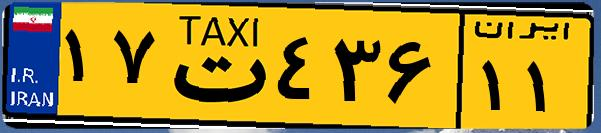1: (57, 26, 110, 100), (475, 38, 525, 113), (525, 38, 570, 115)
3: (330, 28, 385, 110)
4: (270, 28, 330, 110)
6: (385, 28, 445, 110)
7: (110, 28, 158, 98)
ت: (158, 12, 270, 120)
